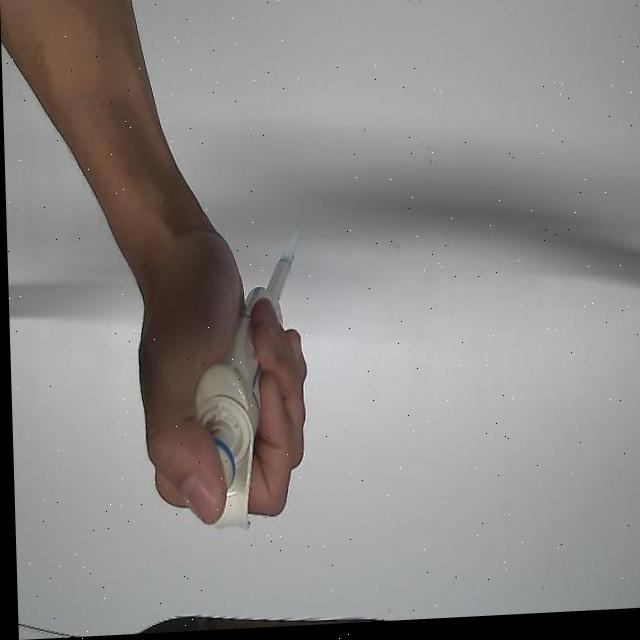Single Channel Pipettor: (187, 257, 300, 543)
